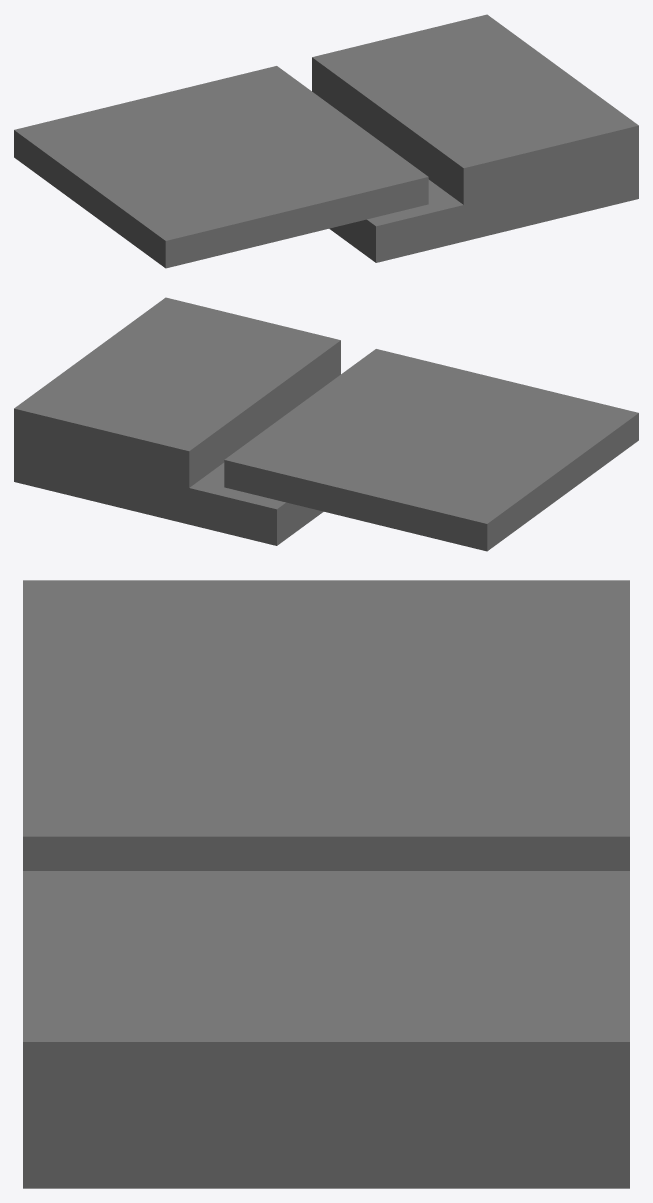
The model's file is С6_Кромки.glb.
3 views of the same model, one above another, from view 1: azimuth 30°, elevation 25°; view 2: azimuth 150°, elevation 25°; view 3: azimuth 270°, elevation 25° (orthographic). The views are drawn at different scales.
Parts seen in each view (by area): view 1: node_id3; view 2: node_id3; view 3: node_id3.
Boxes of the visible parts, <box> form: node_id3: <box>14,14,638,268</box>; node_id3: <box>14,297,638,551</box>; node_id3: <box>23,580,629,1188</box>.
Size of the model in its own units: 0.512 by 0.0759 by 0.2844.
Materials: 1 (1 with a texture image).
